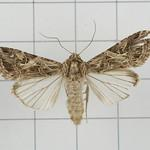Spodoptera litura: (1, 20, 150, 126)
